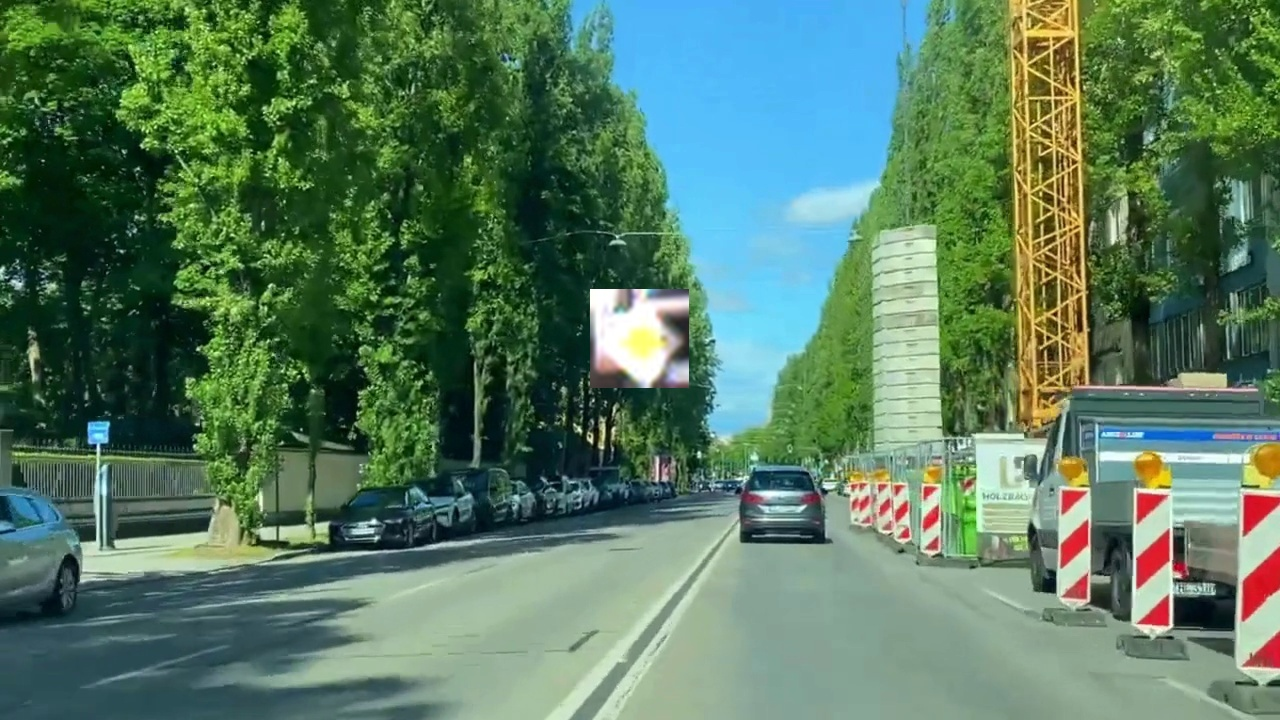Priority road: (590, 289, 689, 388)
